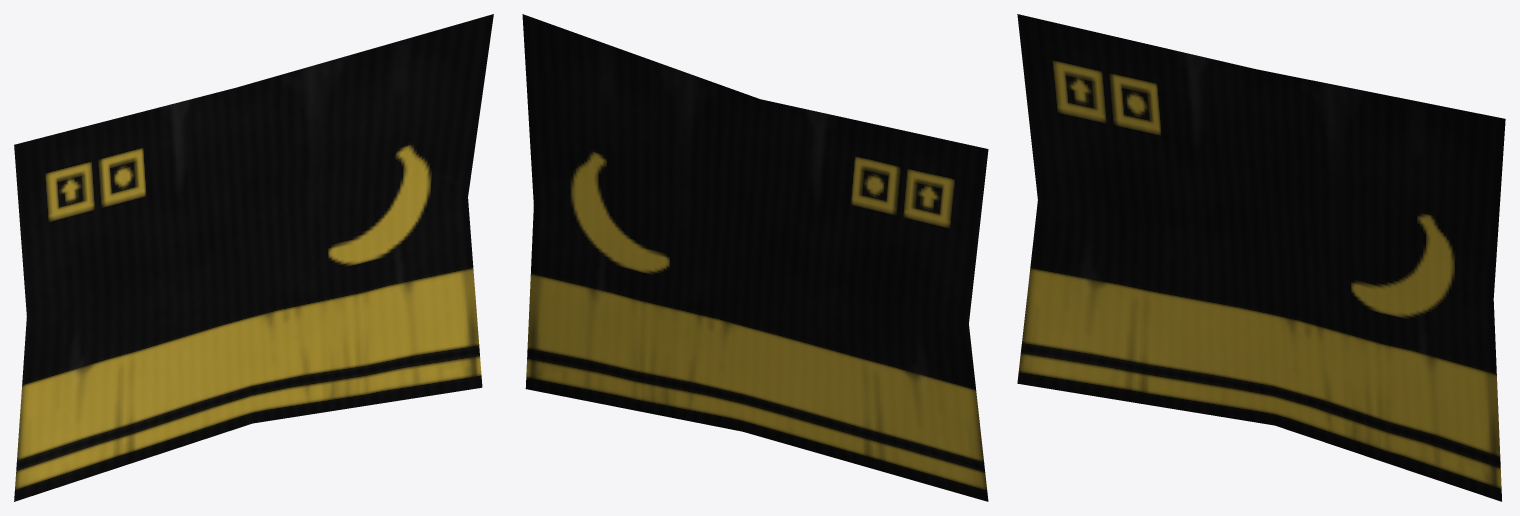
Rendered from p_mesh_bananabox_part02.fbx.
The picture shows the model from 3 angles, left to right: view 1: azimuth 30°, elevation 25°; view 2: azimuth 150°, elevation 25°; view 3: azimuth 330°, elevation 25°; orthographic projection. The views are drawn at different scales.
Parts seen in each view (by area): view 1: p_mesh_containers_boxbanana_part02; view 2: p_mesh_containers_boxbanana_part02; view 3: p_mesh_containers_boxbanana_part02.
Boxes of the visible parts, x1,y1,x2,y2 form: p_mesh_containers_boxbanana_part02: (14, 14, 493, 501); p_mesh_containers_boxbanana_part02: (522, 14, 988, 501); p_mesh_containers_boxbanana_part02: (1017, 14, 1505, 501).
Size of the model in its own units: 4.14 by 3.12 by 0.1368.
